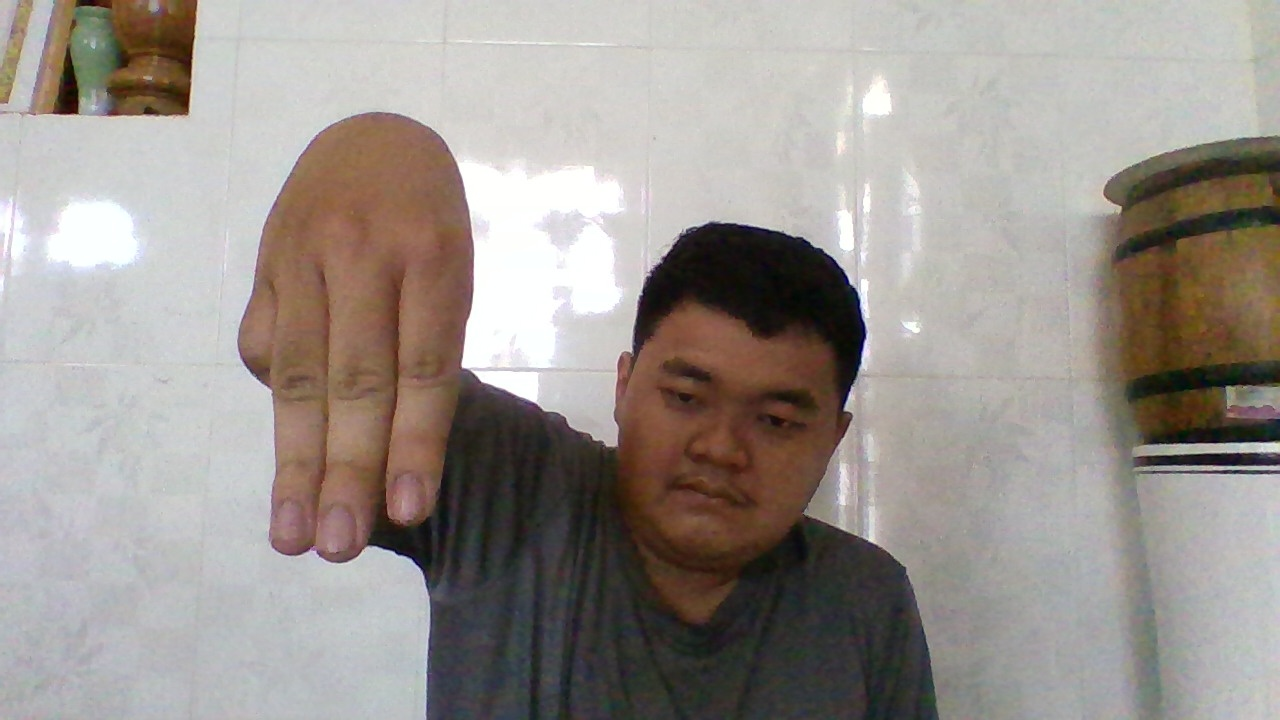M: (242, 138, 463, 552)
